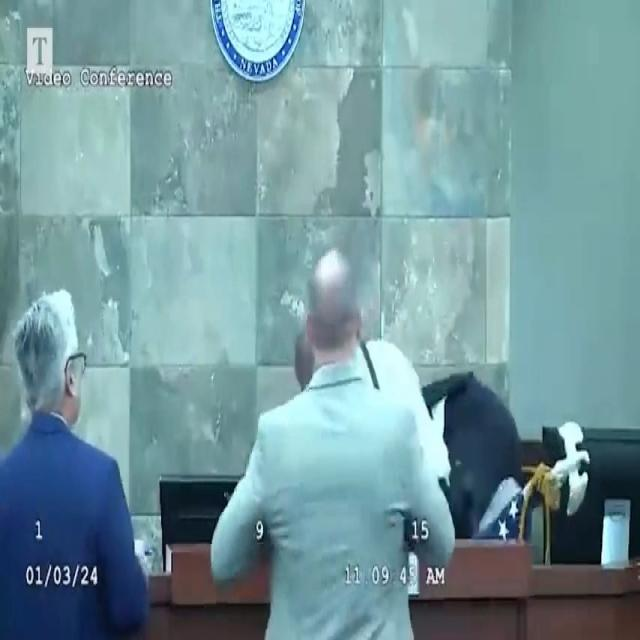fight: (286, 196, 534, 496)
non-fight: (201, 238, 454, 640), (0, 288, 150, 640)
